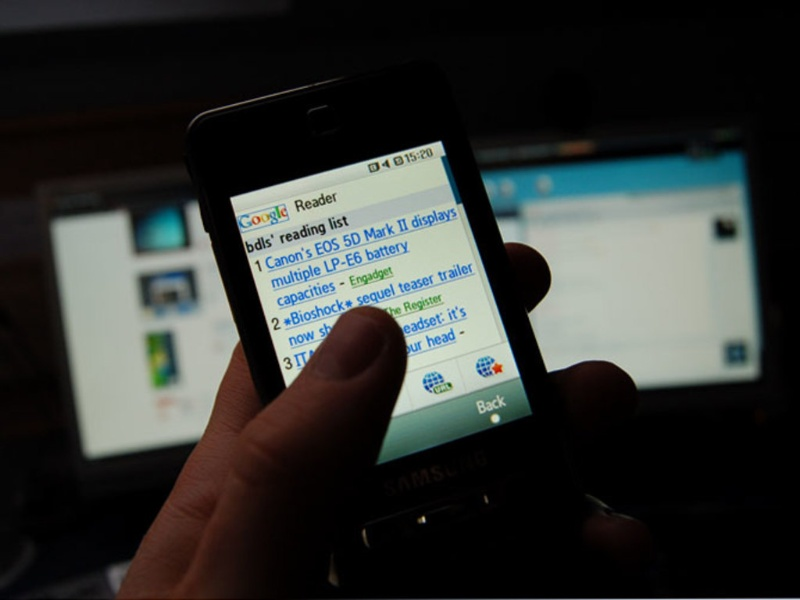cellphone: (180, 74, 587, 548)
